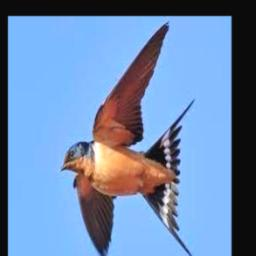Swallow: (57, 21, 195, 256)
